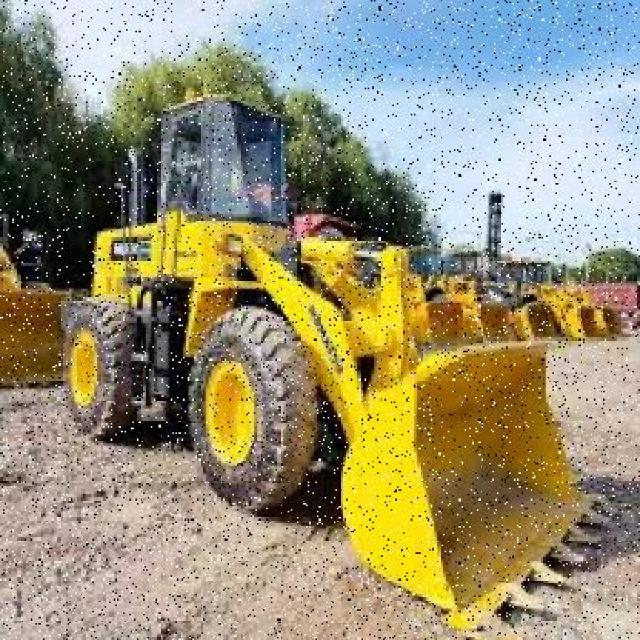buldozerpayloadergrader: (68, 88, 617, 621)
